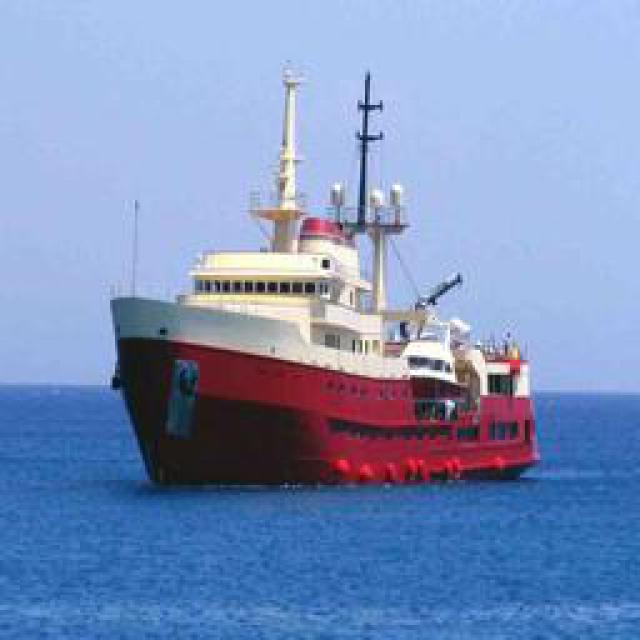Ship: (111, 50, 534, 485)
